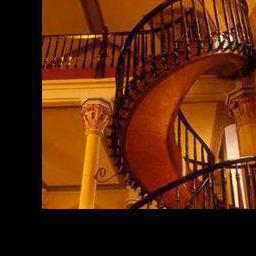Escaleras: (101, 0, 254, 207)
